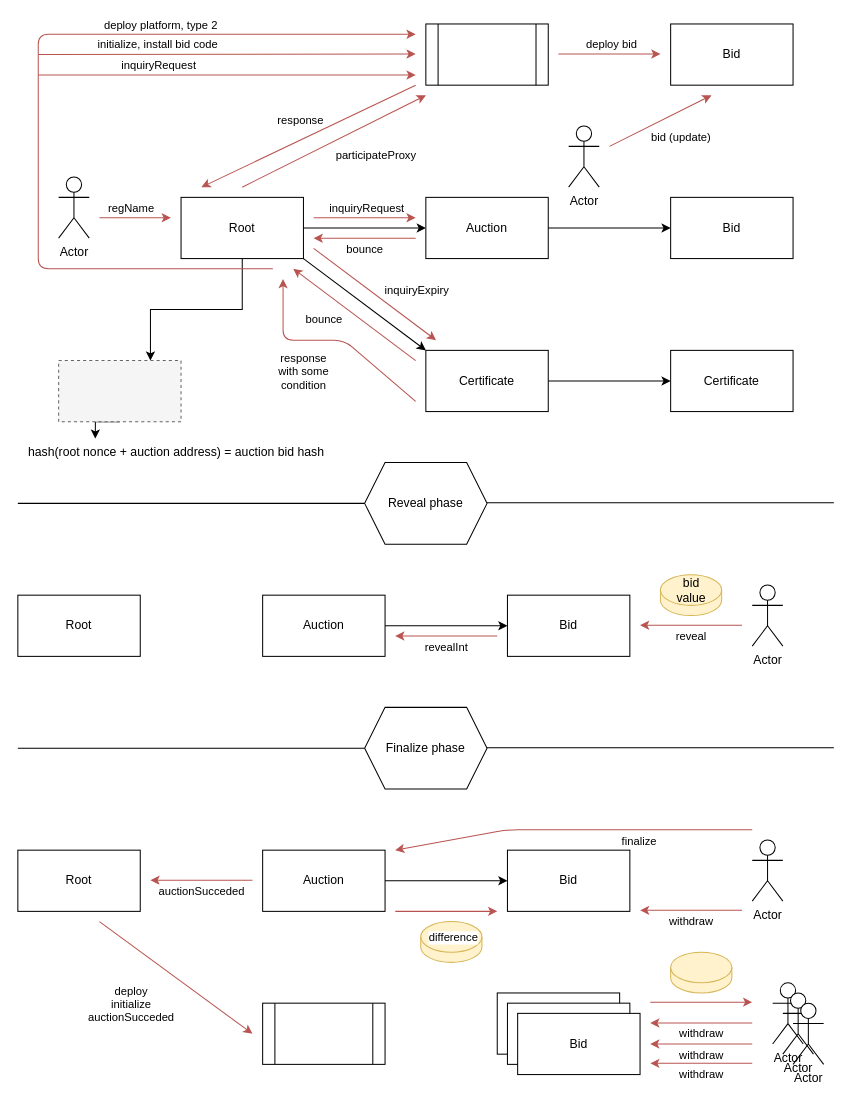
Image size: 853x1103. Some labels were removed from this diagram. The centre of each missing label's shape, as x and y in pixels:
"DeNS-Wallet" goes at (119,391).
"Platform -> Auction" goes at (486,54).
"Platform -> Certificate" goes at (323,1033).
